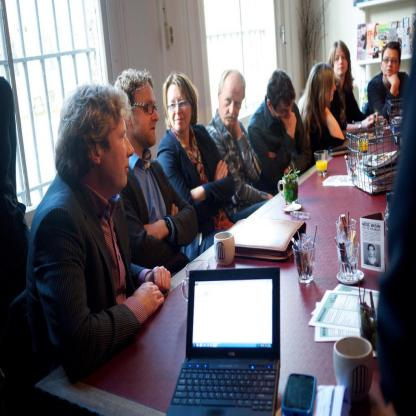board: (167, 266, 280, 416)
